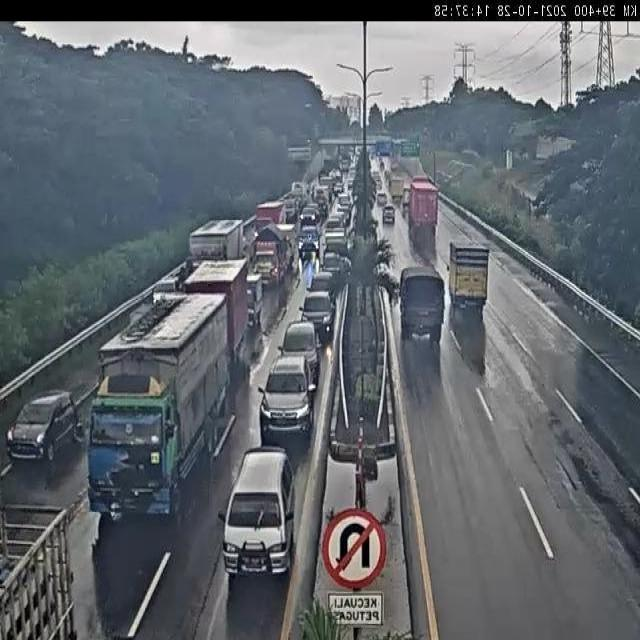Car: (223, 446, 295, 578), (8, 389, 78, 465), (258, 355, 317, 444), (276, 321, 322, 376), (300, 289, 335, 343), (299, 229, 321, 253), (298, 207, 322, 222), (382, 203, 396, 224), (376, 188, 388, 204)
Truck: (88, 298, 228, 522), (0, 491, 77, 640), (188, 255, 250, 366), (399, 264, 445, 346), (445, 241, 491, 315), (253, 219, 295, 297), (403, 178, 440, 235)
